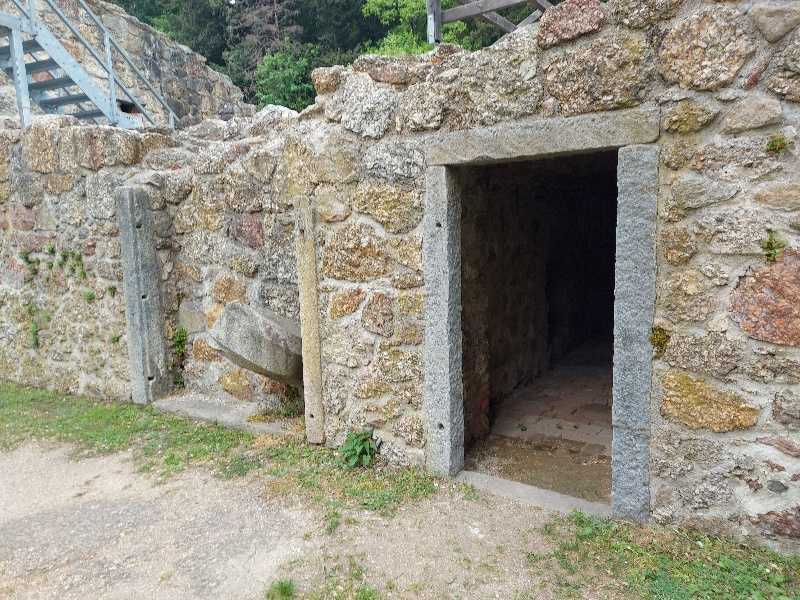door2: (414, 96, 674, 538)
